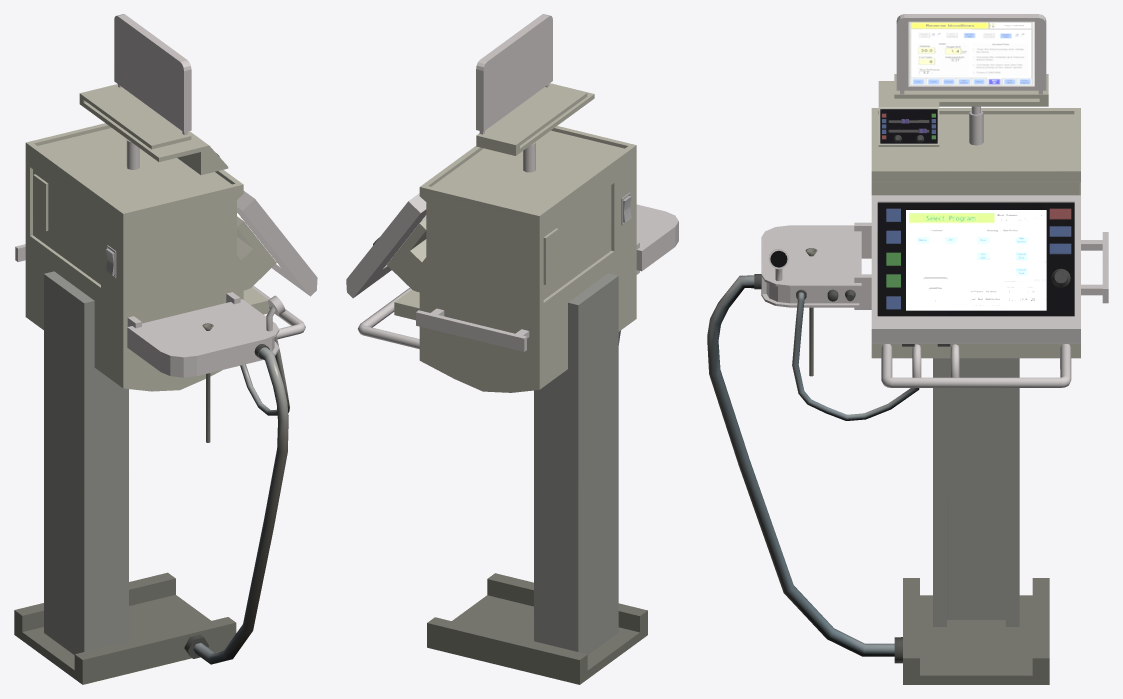
The model's file is ventilator-machine.glb.
3 views of the same model, side by side, from view 1: azimuth 30°, elevation 25°; view 2: azimuth 150°, elevation 25°; view 3: azimuth 270°, elevation 25° (orthographic). The views are drawn at different scales.
Visible parts, largest first — view 1: Machine-material; view 2: Machine-material; view 3: Machine-material.
Part boxes in pixels (x1,y1,x2,y2): Machine-material: (14,14,317,684); Machine-material: (346,14,678,684); Machine-material: (707,14,1108,684).
Bounding box in the file's own units: 0.1013 × 0.2629 × 0.149.
1 material, 1 textured.
